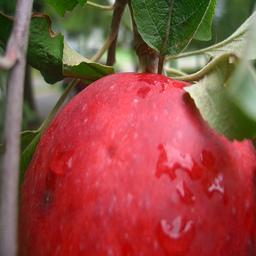apple: (17, 74, 254, 254)
